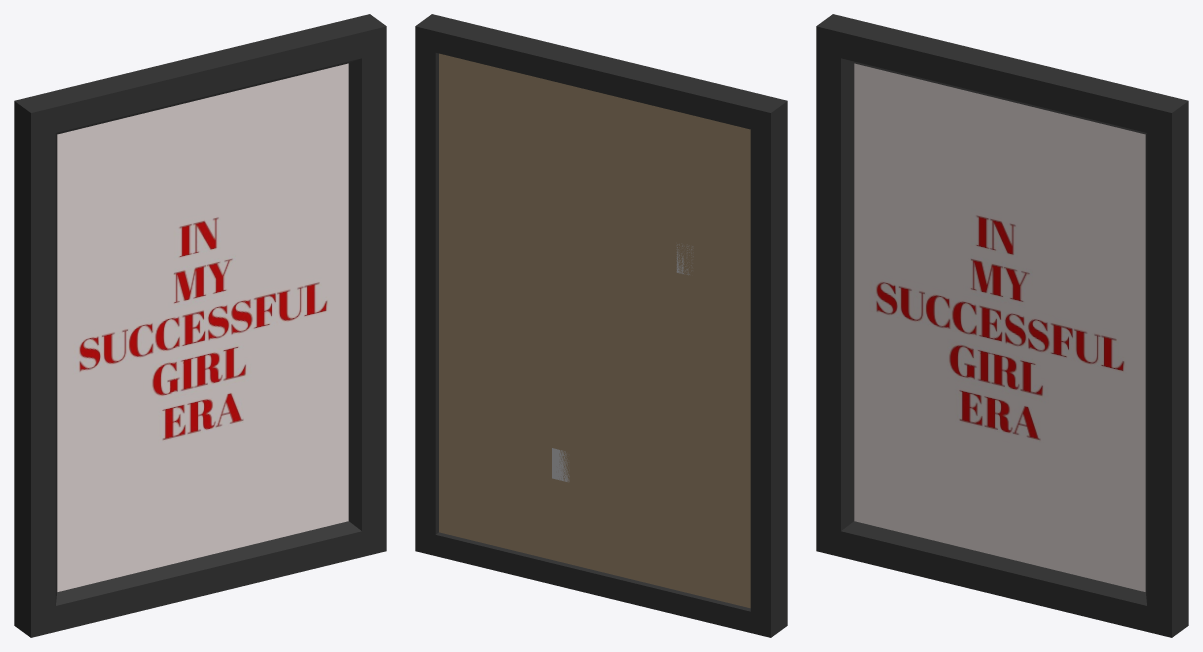
The model's file is successful-girl-era-20x30.glb.
The picture shows the model from 3 angles, left to right: view 1: azimuth 30°, elevation 25°; view 2: azimuth 150°, elevation 25°; view 3: azimuth 330°, elevation 25°; orthographic projection.
Parts seen in each view (by area): view 1: LAWHA 20x30; view 2: LAWHA 20x30; view 3: LAWHA 20x30.
Boxes of the visible parts, bbox=[...] form: LAWHA 20x30: bbox=[14, 14, 386, 637]; LAWHA 20x30: bbox=[415, 14, 787, 637]; LAWHA 20x30: bbox=[816, 14, 1188, 637].
Bounding box in the file's own units: 0.244 × 0.344 × 0.02.
4 materials, 1 textured.
